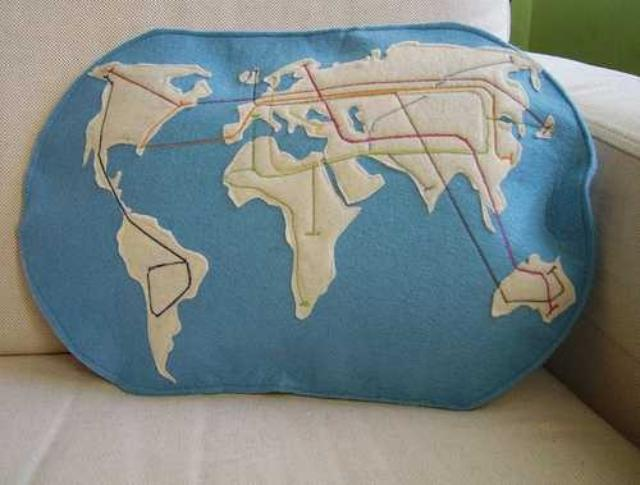pillow: (19, 22, 600, 411)
